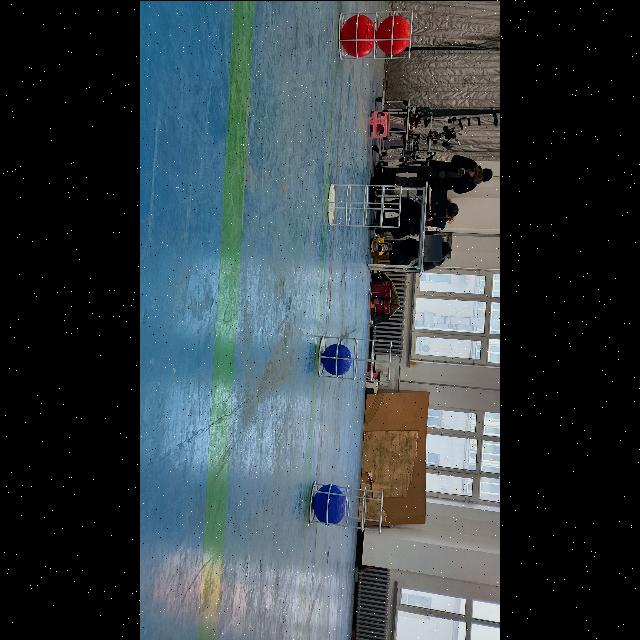B: (313, 485, 349, 525), (322, 344, 352, 374)
R: (339, 12, 376, 56), (376, 14, 412, 54)
S: (336, 6, 416, 64), (306, 478, 386, 534), (316, 331, 394, 385), (324, 178, 404, 230)
